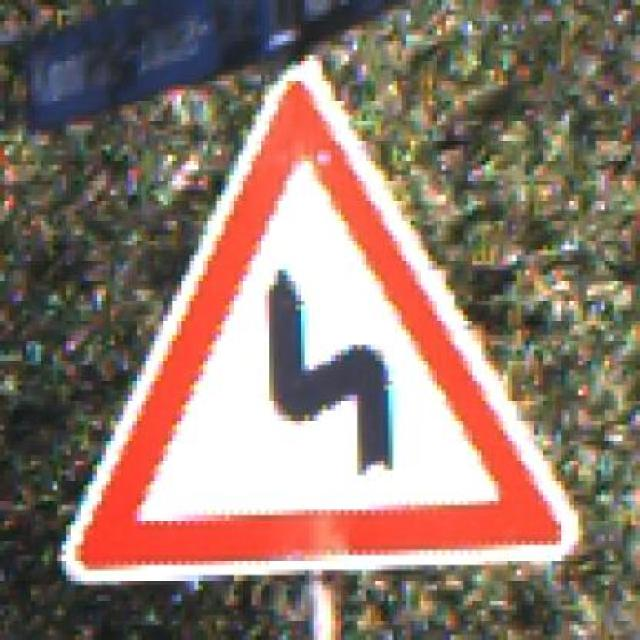Left Zig Zag Traffic: (49, 40, 582, 580)
